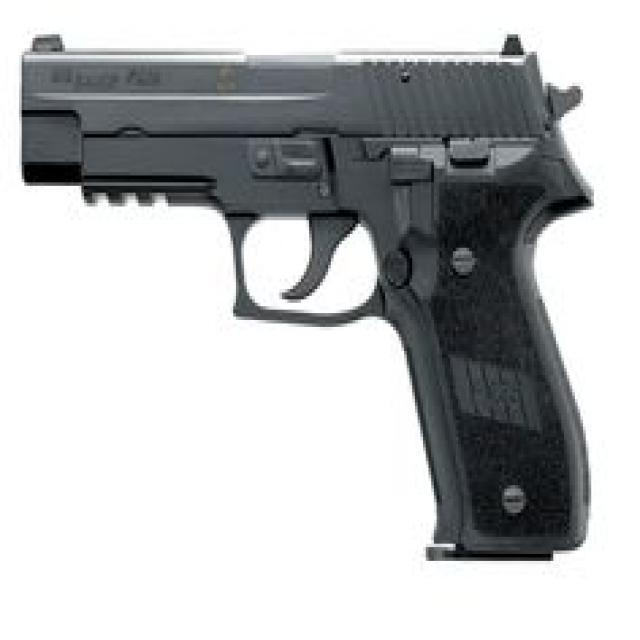semi automatic: (9, 21, 613, 606)
